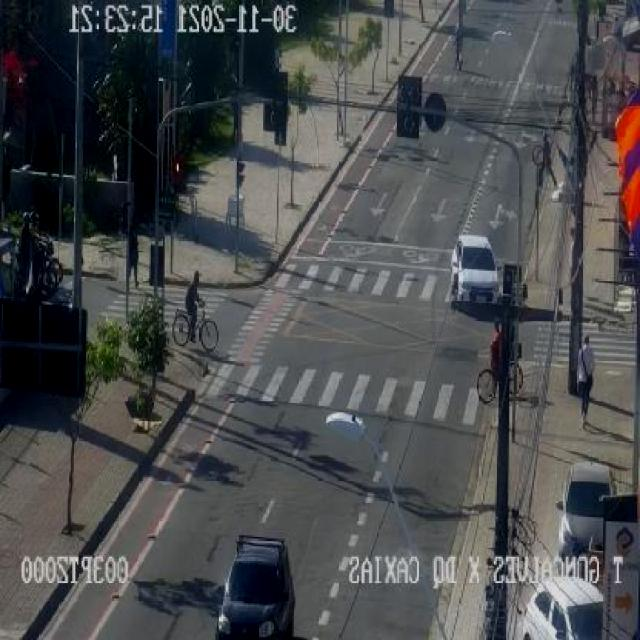Car: (217, 536, 293, 638), (518, 577, 604, 640), (560, 463, 614, 556), (452, 236, 502, 310)
Cycle: (170, 298, 220, 353), (12, 243, 60, 300), (478, 345, 524, 404), (16, 238, 65, 286)
